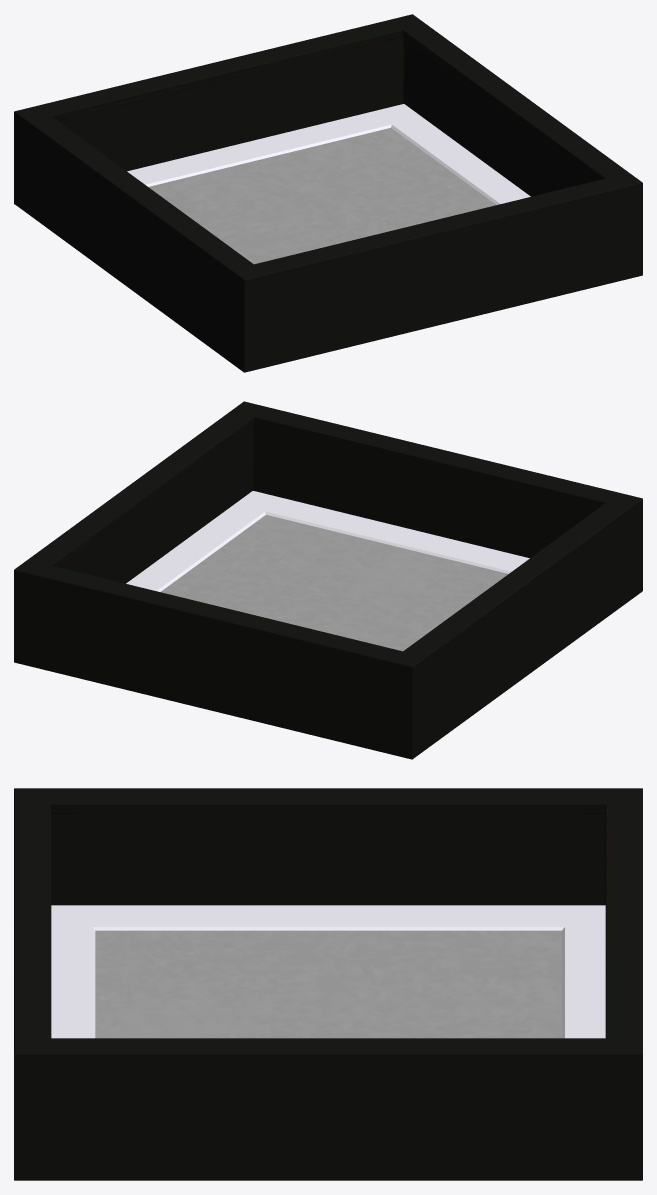
Rendered from frame-small.glb.
3 views of the same model, one above another, from view 1: azimuth 30°, elevation 25°; view 2: azimuth 150°, elevation 25°; view 3: azimuth 270°, elevation 25° (orthographic). The views are drawn at different scales.
Parts seen in each view (by area): view 1: 1, 2; view 2: 1, 2; view 3: 1, 2.
Part boxes in pixels (x1,y1,x2,y2): 1: [14, 14, 642, 372]; 2: [148, 127, 496, 264]; 1: [14, 401, 642, 759]; 2: [160, 514, 508, 651]; 1: [14, 788, 642, 1180]; 2: [95, 930, 561, 1038].
Size of the model in its own units: 0.268 by 0.0601 by 0.268.
Materials: 2 (2 with a texture image).
